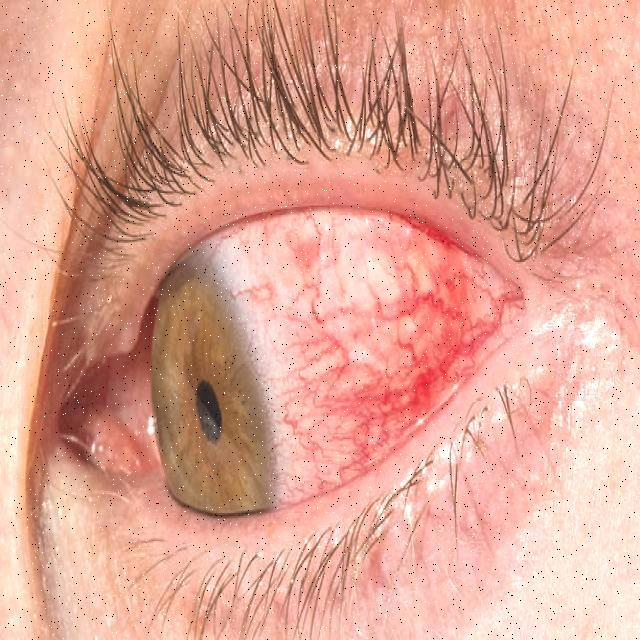Conjunctivitis: (83, 208, 530, 492)
